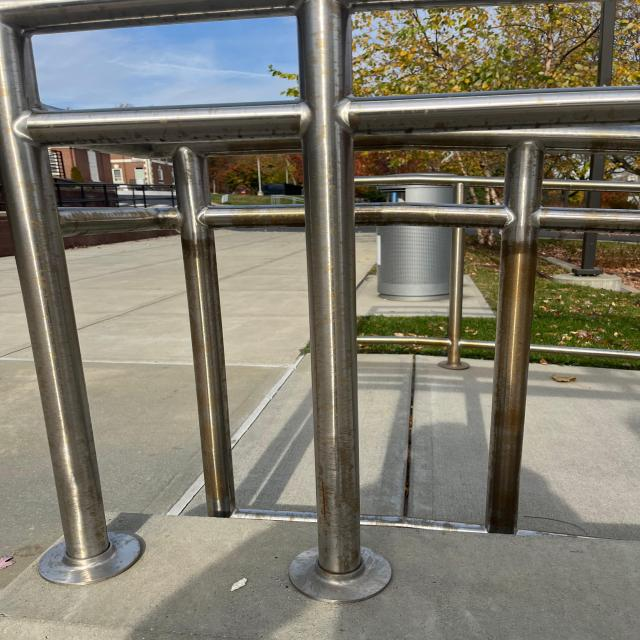Crevice Corrosion: (22, 255, 113, 564)
Uniform Corrosion: (314, 242, 364, 582), (485, 239, 541, 535), (183, 229, 238, 520)
